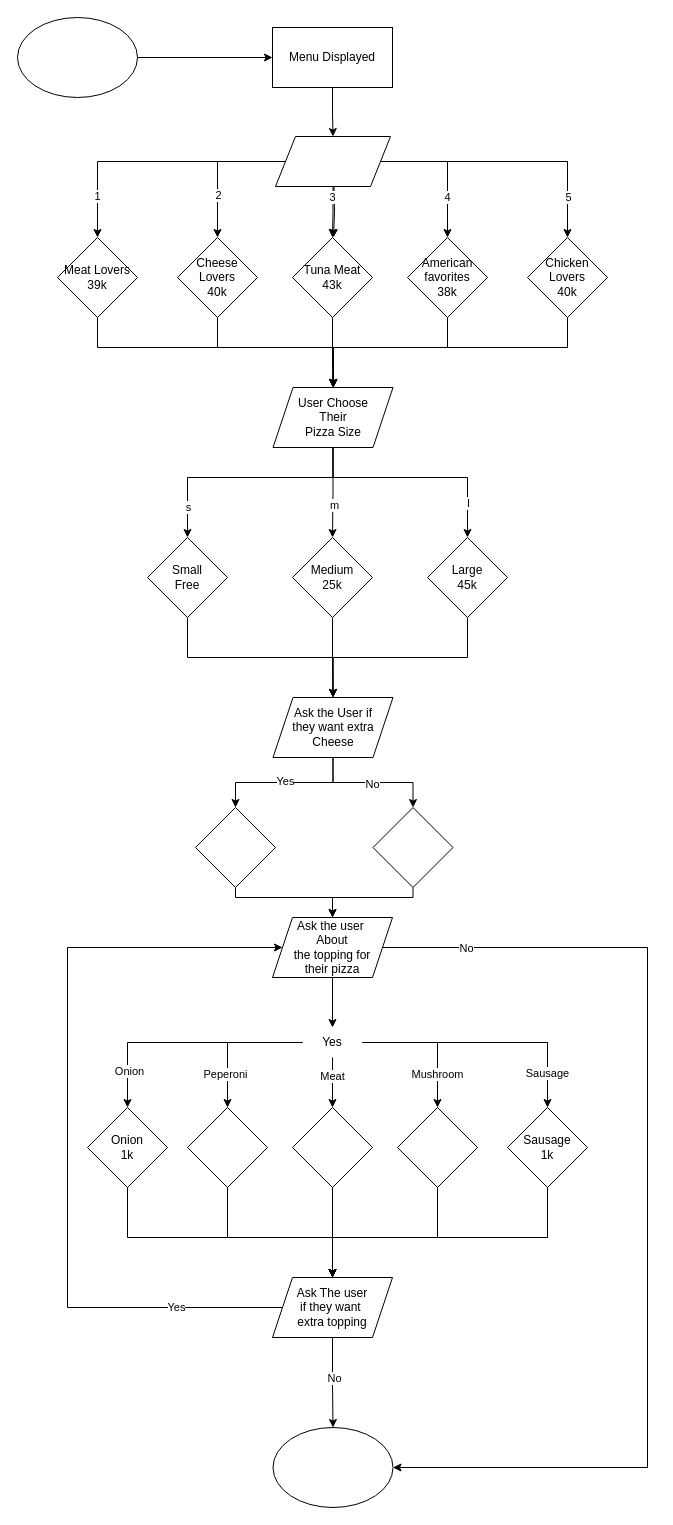
Some shapes in this 673 by 1525 pixel diagram are drawn without their labels. The shapes that lost their labels are listed below. From the top down, each one's centre as x and y in pixels, then its label:
point (77, 57): Welcome To Yudha Pizza Shop
point (332, 161): User Choose Their Pizza Type
point (235, 847): No Free
point (412, 847): Yes 8k
point (227, 1147): Peperoni 1k
point (332, 1147): Meat 1k
point (437, 1147): Mushroom 1k
point (332, 1467): Your total bill is
